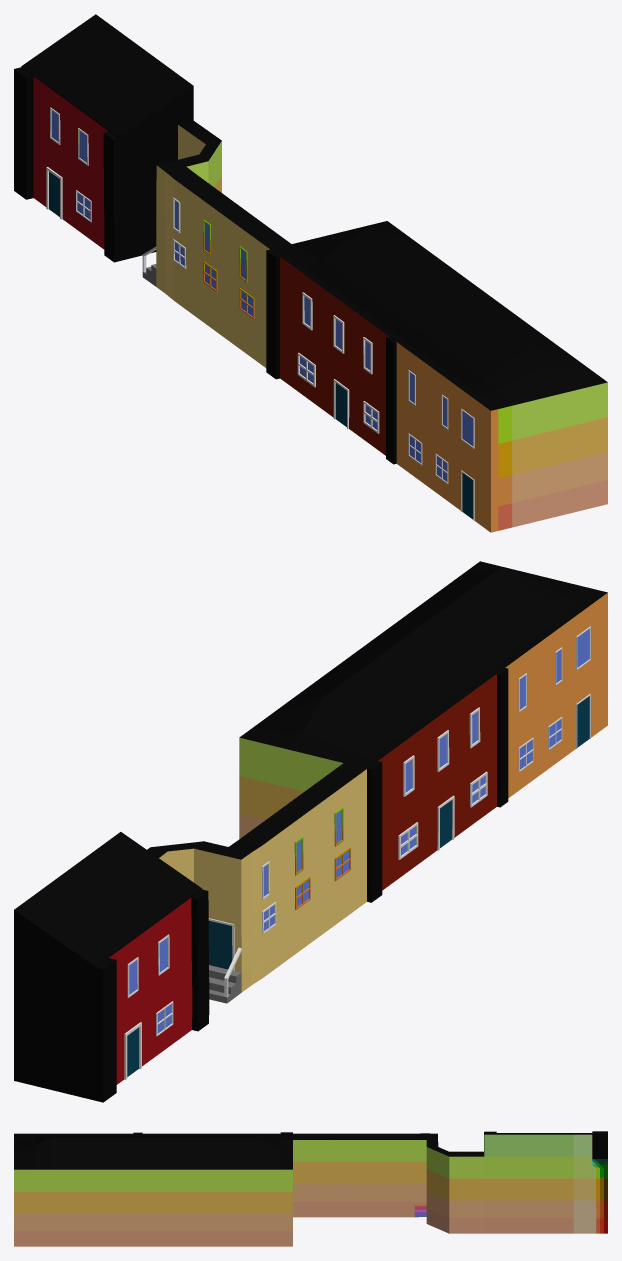
The model's file is House1.fbx.
The picture shows the model from 3 angles, top to bottom: view 1: azimuth 30°, elevation 25°; view 2: azimuth 150°, elevation 25°; view 3: azimuth 270°, elevation 25°; orthographic projection. The views are drawn at different scales.
Visible parts, largest first — view 1: Cube; view 2: Cube; view 3: Cube.
Boxes of the visible parts, x1,y1,x2,y2 form: Cube: (14,14,607,532); Cube: (14,561,607,1102); Cube: (14,1131,607,1246).
Bounding box in the file's own units: 1157 × 1392 × 7563.
